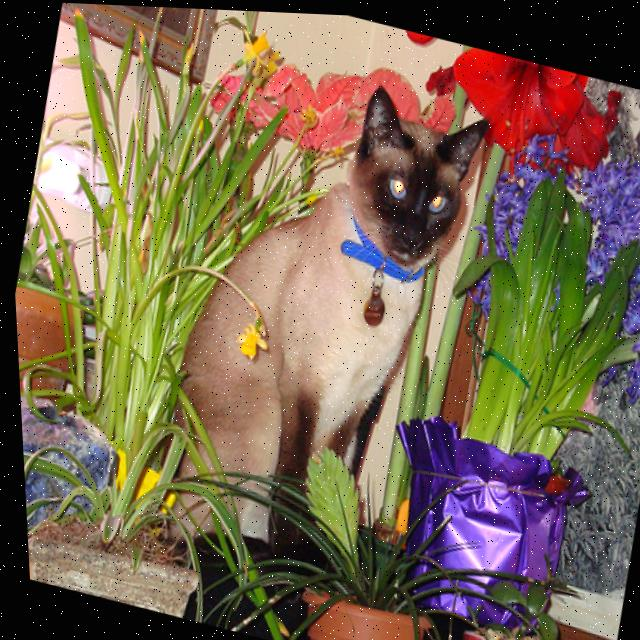Siamese: (117, 37, 511, 609)
